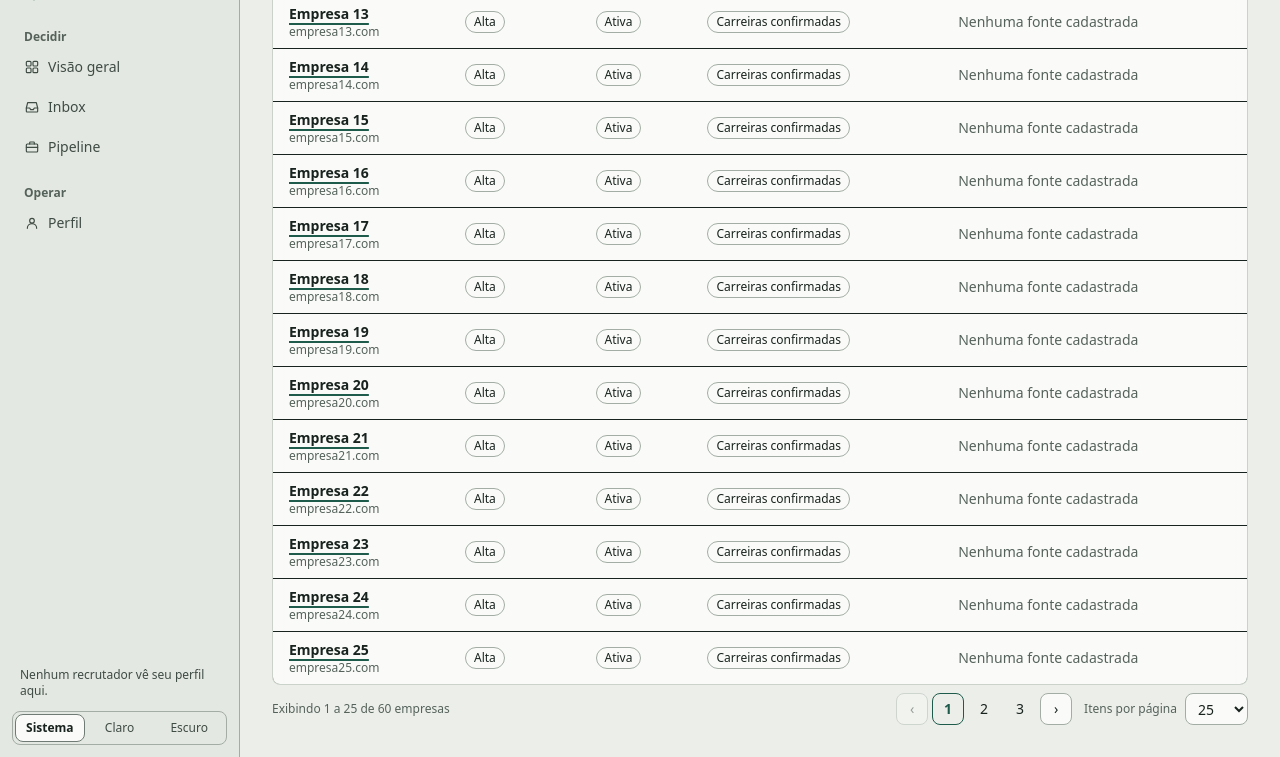
Test: CompaniesPage › pagina: mostra o intervalo, troca de página e pede page/page_size à API
The width and height of the screenshot is (1280, 757).
(page scrolled)
Click the button named "Página 2" at (984, 709), box [968, 693, 1000, 725]
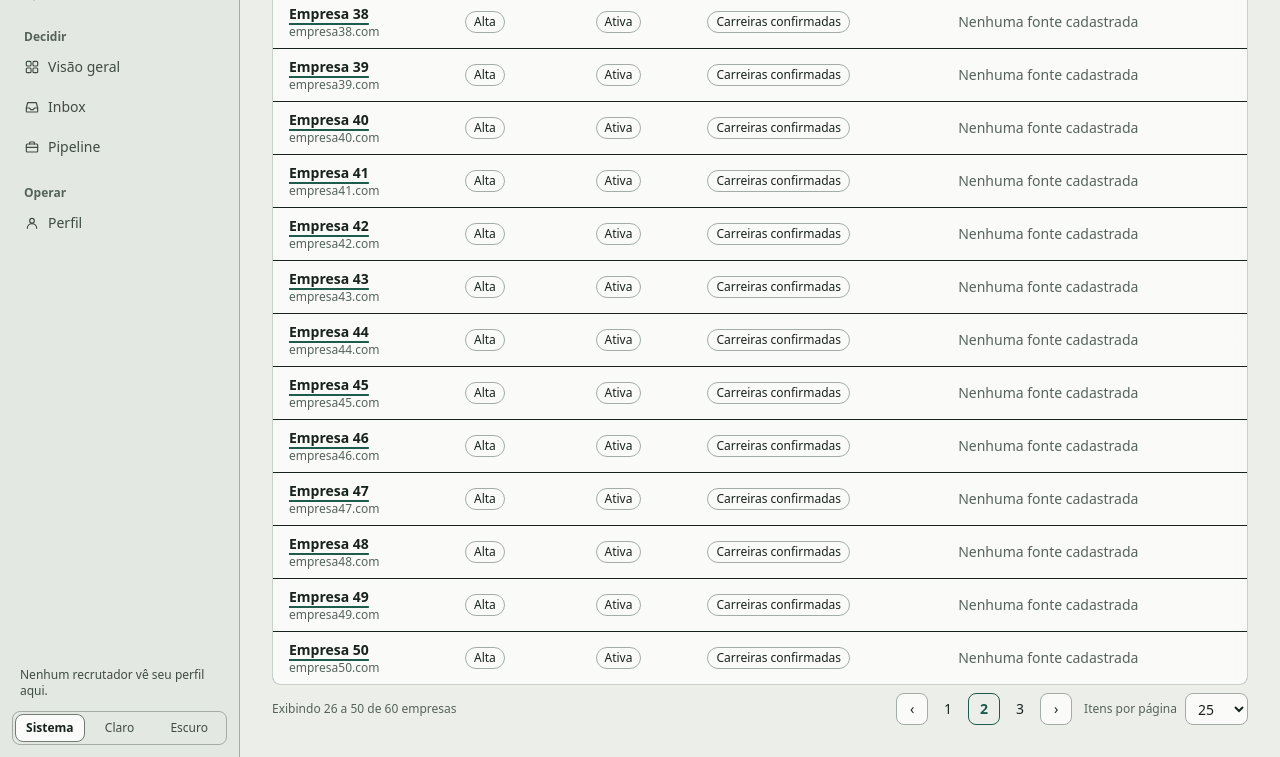
Expected: the text "Exibindo 26 a 50 de 60 empresas" is shown, [272, 701, 456, 717]
